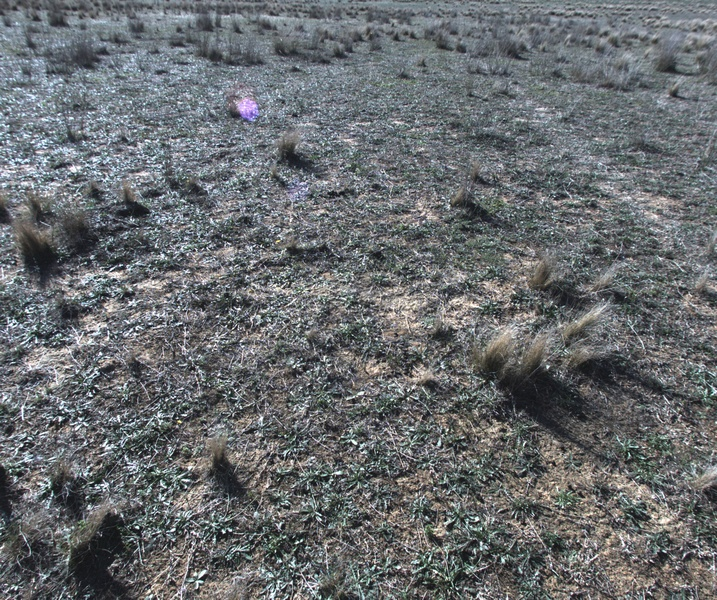st: (8, 220, 54, 273), (71, 518, 118, 568), (513, 328, 549, 386), (559, 336, 615, 372), (511, 250, 549, 295), (55, 209, 88, 255), (554, 309, 600, 341), (443, 180, 484, 215), (477, 328, 505, 378), (201, 432, 229, 478), (267, 127, 298, 162), (114, 179, 140, 218), (49, 464, 75, 500), (187, 174, 210, 202), (26, 186, 44, 217), (585, 280, 608, 304), (686, 276, 708, 296), (665, 79, 681, 101), (82, 176, 101, 193)
